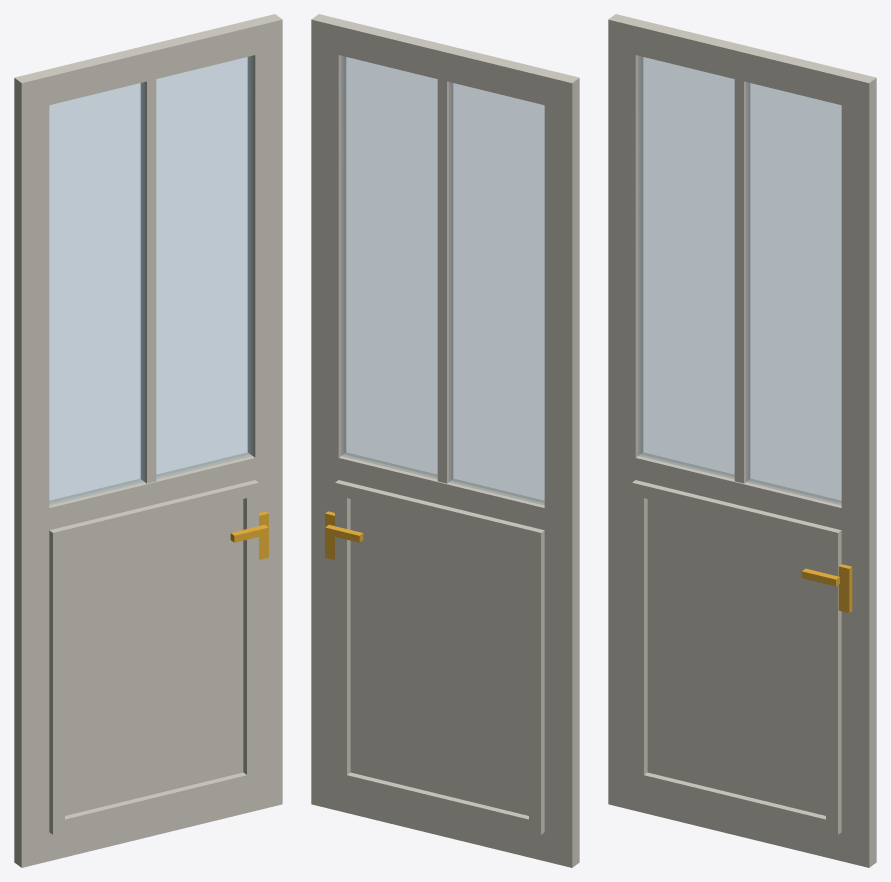
File: SM_Door_ra_100x285.fbx
3 renders of one model, left to right at view 1: azimuth 30°, elevation 25°; view 2: azimuth 150°, elevation 25°; view 3: azimuth 330°, elevation 25°, orthographic.
Parts seen in each view (by area): view 1: SM_Door_ra_100x285; view 2: SM_Door_ra_100x285; view 3: SM_Door_ra_100x285.
Boxes of the visible parts, x1,y1,x2,y2 form: SM_Door_ra_100x285: (14, 14, 282, 867); SM_Door_ra_100x285: (311, 14, 579, 867); SM_Door_ra_100x285: (608, 14, 876, 867).
Bounding box in the file's own units: 0.988 × 2.84 × 0.175.
